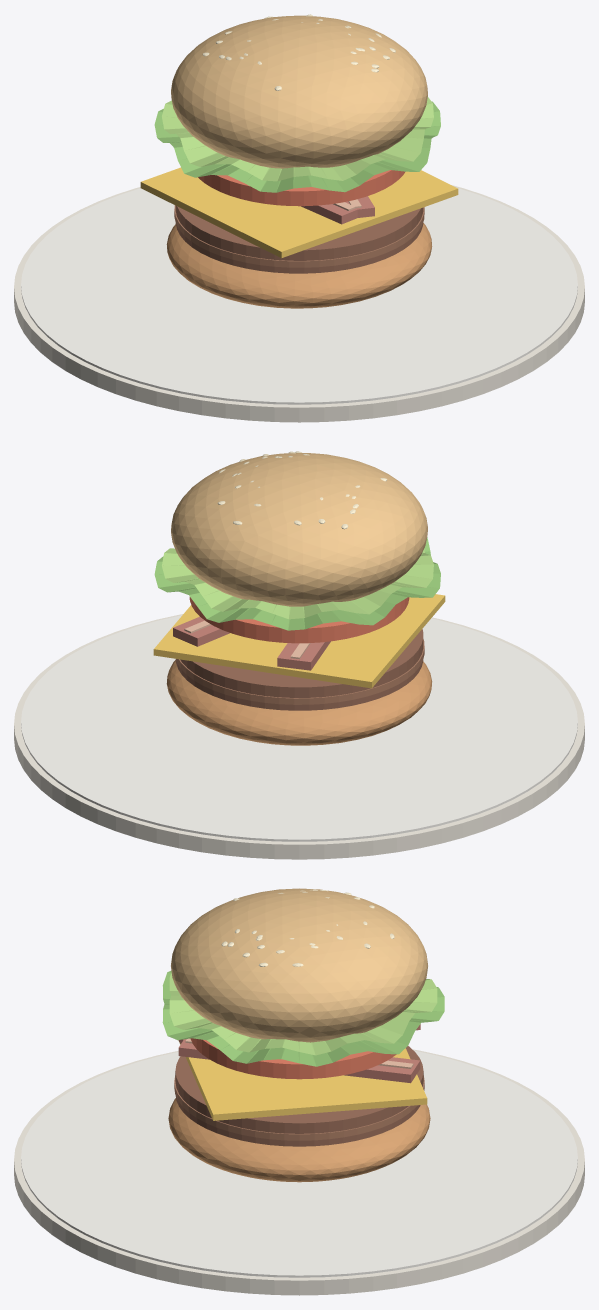
The model's file is burger-tradicional.glb.
The picture shows the model from 3 angles, top to bottom: view 1: azimuth 30°, elevation 25°; view 2: azimuth 150°, elevation 25°; view 3: azimuth 270°, elevation 25°; orthographic projection.
Parts seen in each view (by area): view 1: borda_do_prato_2, pao_superior_14, prato_ceramica_1, queijo_6, pao_inferior_3, base_carne_4, alface_ondulada_13, alface_ondulada_12, tomate_11, borda_caramelizada_5, bacon_7; view 2: borda_do_prato_2, pao_superior_14, prato_ceramica_1, pao_inferior_3, queijo_6, base_carne_4, alface_ondulada_13, alface_ondulada_12, tomate_11, borda_caramelizada_5, bacon_7, bacon_9; view 3: borda_do_prato_2, pao_superior_14, prato_ceramica_1, pao_inferior_3, queijo_6, base_carne_4, alface_ondulada_13, alface_ondulada_12, tomate_11, borda_caramelizada_5, bacon_9.
Boxes of the visible parts, x1,y1,x2,y2 form: borda_do_prato_2: (21, 188, 577, 404); pao_superior_14: (171, 15, 427, 168); prato_ceramica_1: (14, 185, 584, 422); queijo_6: (140, 167, 458, 258); pao_inferior_3: (166, 223, 432, 308); base_carne_4: (175, 206, 423, 273); alface_ondulada_13: (162, 97, 433, 181); alface_ondulada_12: (154, 101, 440, 192); tomate_11: (198, 170, 405, 206); borda_caramelizada_5: (174, 205, 424, 267); bacon_7: (301, 201, 366, 224); borda_do_prato_2: (21, 615, 577, 841); pao_superior_14: (171, 453, 427, 606); prato_ceramica_1: (14, 614, 584, 859); pao_inferior_3: (166, 660, 432, 745); queijo_6: (153, 594, 445, 688); base_carne_4: (175, 629, 423, 710); alface_ondulada_13: (162, 548, 433, 619); alface_ondulada_12: (154, 537, 440, 630); tomate_11: (189, 597, 409, 643); borda_caramelizada_5: (175, 639, 424, 704); bacon_7: (277, 641, 330, 670); bacon_9: (173, 616, 229, 646); borda_do_prato_2: (21, 1050, 577, 1277); pao_superior_14: (171, 888, 427, 1042); prato_ceramica_1: (14, 1049, 584, 1295); pao_inferior_3: (168, 1098, 430, 1182); queijo_6: (178, 1040, 427, 1120); base_carne_4: (175, 1046, 423, 1146); alface_ondulada_13: (169, 972, 437, 1055); alface_ondulada_12: (162, 971, 444, 1066); tomate_11: (190, 1038, 396, 1079); borda_caramelizada_5: (174, 1075, 424, 1140); bacon_9: (178, 1040, 420, 1083).
Bounding box in the file's own units: 0.244 × 0.1245 × 0.244.
